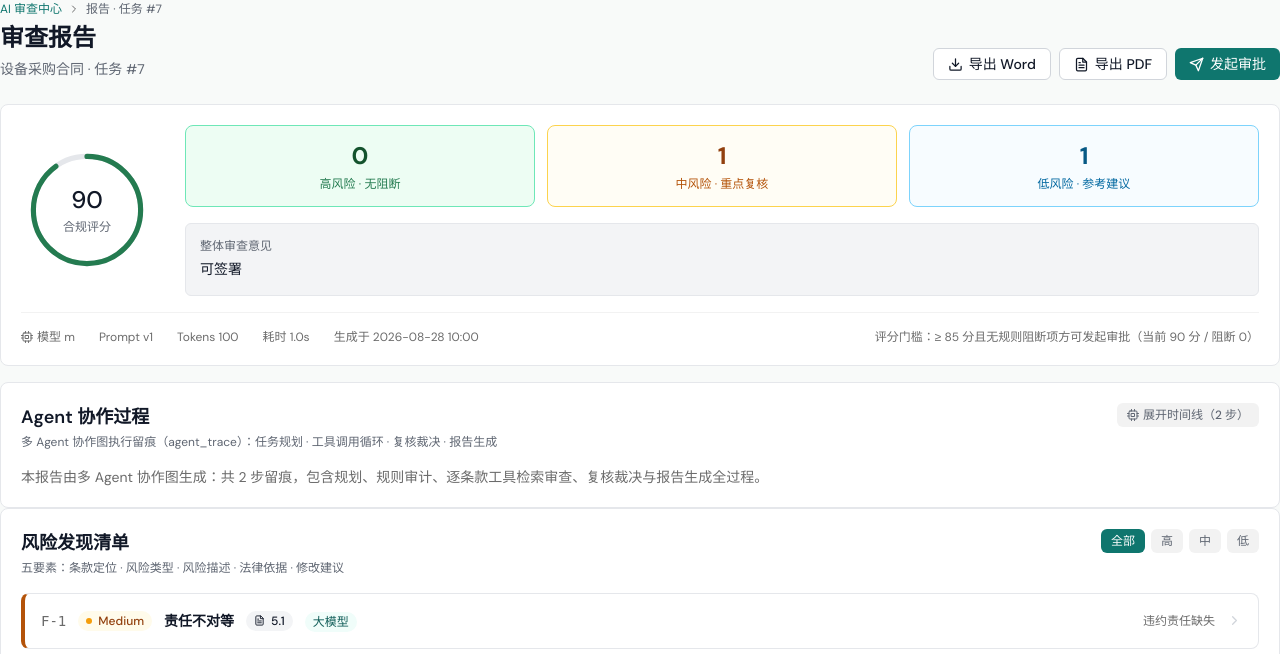
Test case: ReviewReportView 补充分支 › 智能体留痕降级项展示错误文案
This screenshot has width=1280, height=654.
Click the button "展开时间线（2 步）" at (1188, 415), box 1117,403 -> 1259,427
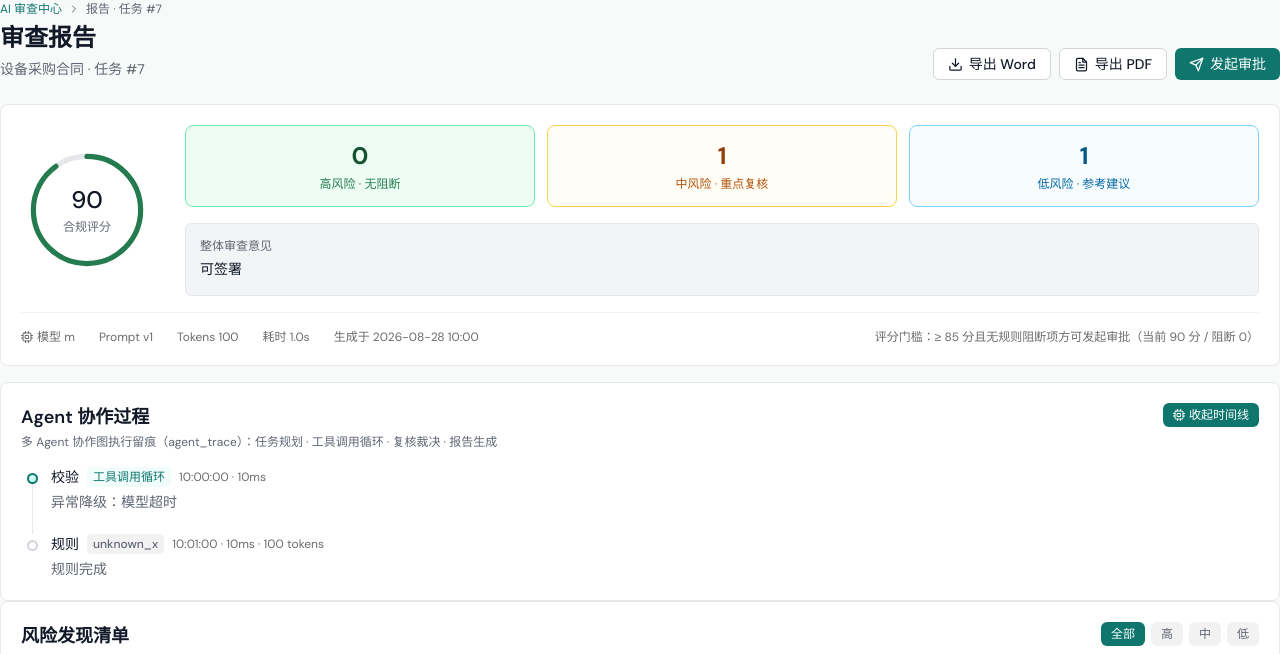
Result: the text "模型超时" is shown at 51,493 -> 177,511
